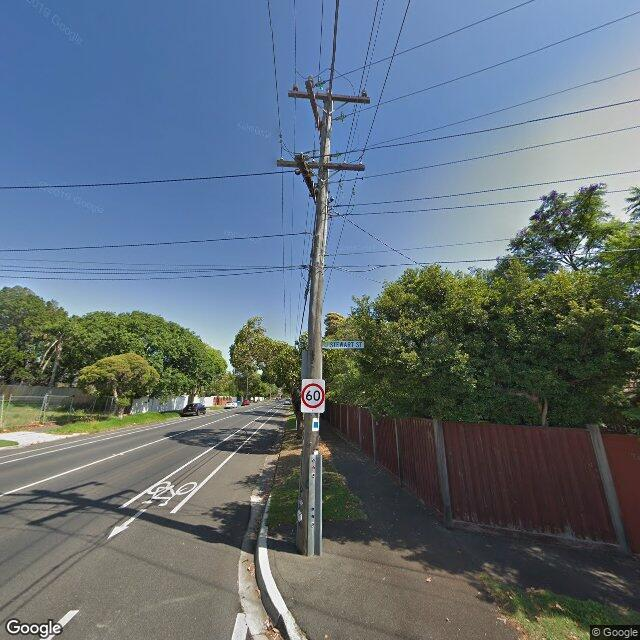HV-transmission: (287, 74, 372, 130)
crossarm: (287, 90, 370, 104), (277, 160, 365, 172), (296, 154, 317, 200), (306, 82, 323, 130)
timber-pole: (297, 90, 334, 555)
